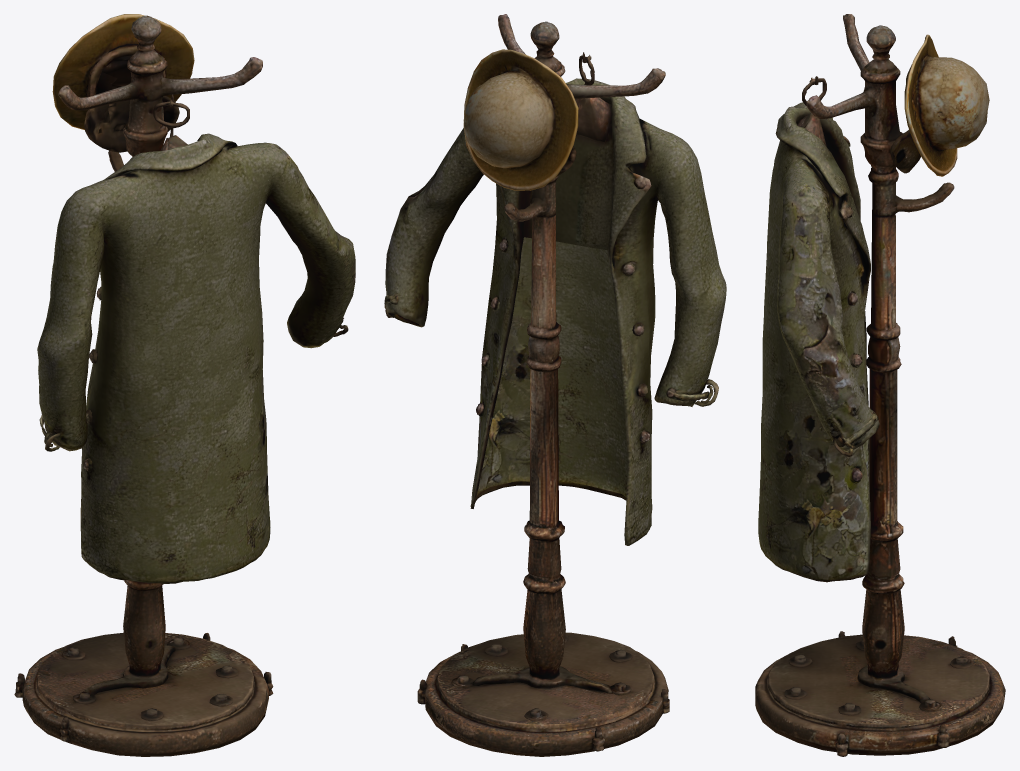
File: prop-clothes-rack-v01.glb
3 views of the same model, side by side, from view 1: azimuth 30°, elevation 25°; view 2: azimuth 150°, elevation 25°; view 3: azimuth 270°, elevation 25° (orthographic).
Parts seen in each view (by area): view 1: tripo_node_f73afde0-45ab-4c77-92fa-56761bf7780c; view 2: tripo_node_f73afde0-45ab-4c77-92fa-56761bf7780c; view 3: tripo_node_f73afde0-45ab-4c77-92fa-56761bf7780c.
Part boxes in pixels (left/top/right/bottom): tripo_node_f73afde0-45ab-4c77-92fa-56761bf7780c: left=14, top=14, right=355, bottom=756; tripo_node_f73afde0-45ab-4c77-92fa-56761bf7780c: left=384, top=14, right=726, bottom=756; tripo_node_f73afde0-45ab-4c77-92fa-56761bf7780c: left=755, top=14, right=1005, bottom=756.
Bounding box in the file's own units: 0.975 × 1.99 × 0.6643.
Materials: 1 (1 with a texture image).
